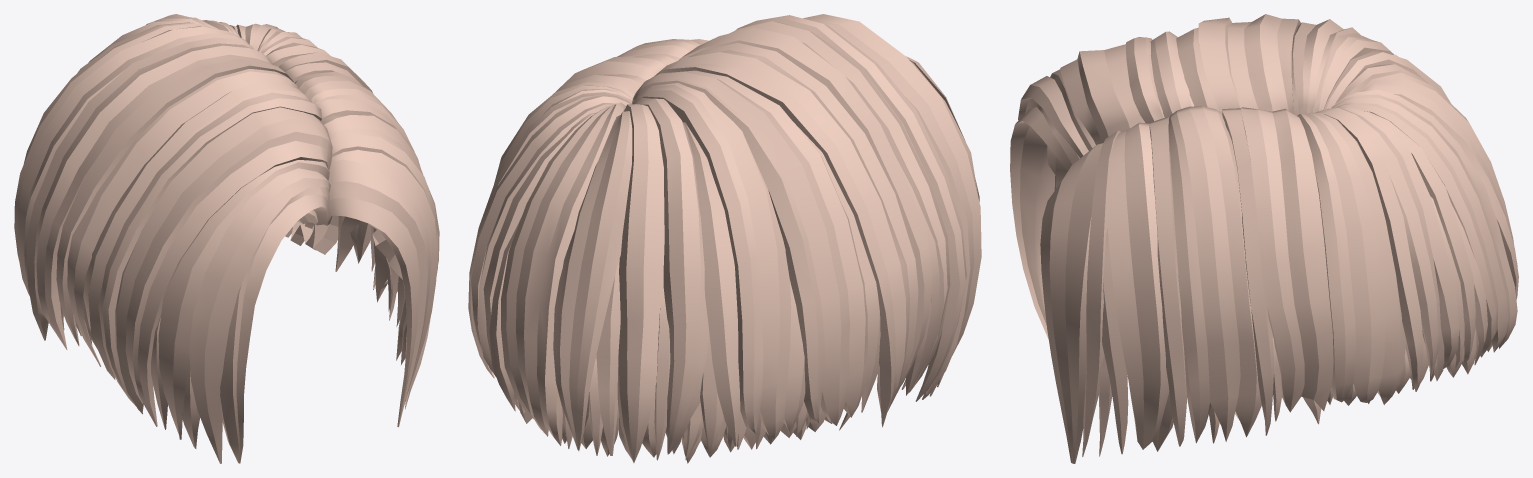
The model's file is Hair_08.fbx.
3 views of the same model, side by side, from view 1: azimuth 30°, elevation 25°; view 2: azimuth 150°, elevation 25°; view 3: azimuth 270°, elevation 25° (orthographic). The views are drawn at different scales.
Parts seen in each view (by area): view 1: Hair_08; view 2: Hair_08; view 3: Hair_08.
Part boxes in pixels (<box>): Hair_08: <box>14,14,439,463</box>; Hair_08: <box>468,14,981,463</box>; Hair_08: <box>1010,14,1518,463</box>.
Bounding box in the file's own units: 2.03 × 1.91 × 2.36.
